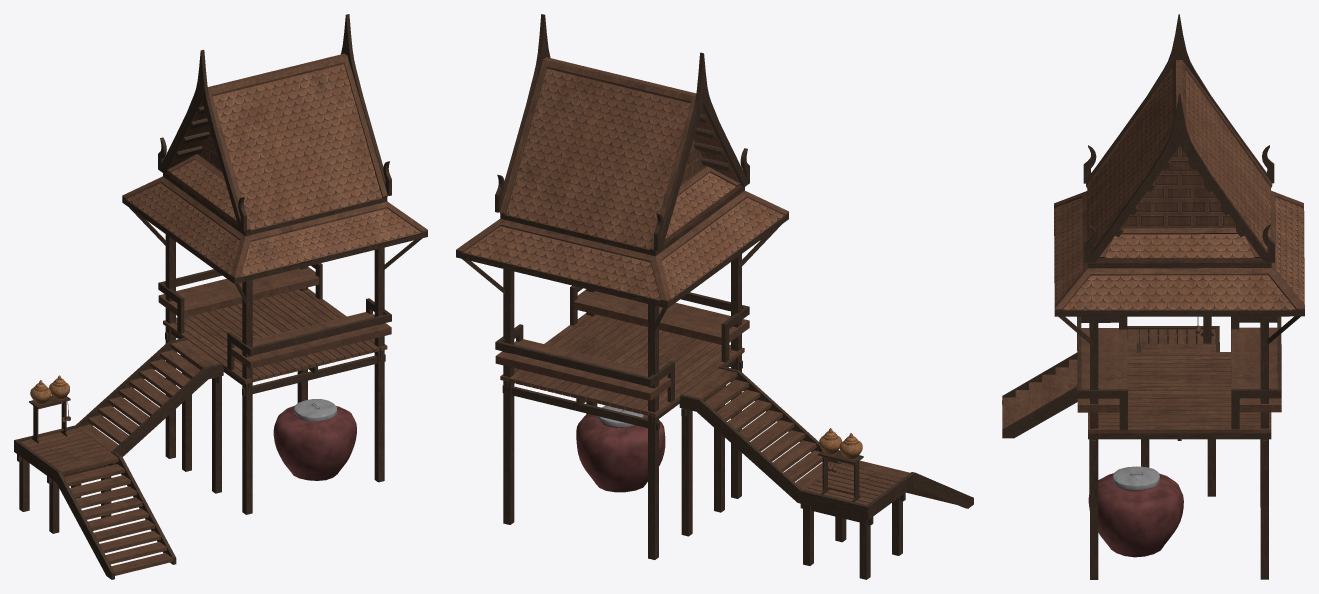
File: house01a.fbx
3 views of the same model, side by side, from view 1: azimuth 30°, elevation 25°; view 2: azimuth 150°, elevation 25°; view 3: azimuth 270°, elevation 25° (orthographic). The views are drawn at different scales.
Visible parts, largest first — view 1: BWaterJarLMo.114; view 2: BWaterJarLMo.114; view 3: BWaterJarLMo.114.
Part boxes in pixels (bbox=[...]): BWaterJarLMo.114: bbox=[14, 14, 427, 579]; BWaterJarLMo.114: bbox=[456, 14, 973, 579]; BWaterJarLMo.114: bbox=[1002, 14, 1304, 579].
Size of the model in its own units: 1053 by 1290 by 726.
Materials: 7 (7 with a texture image).
